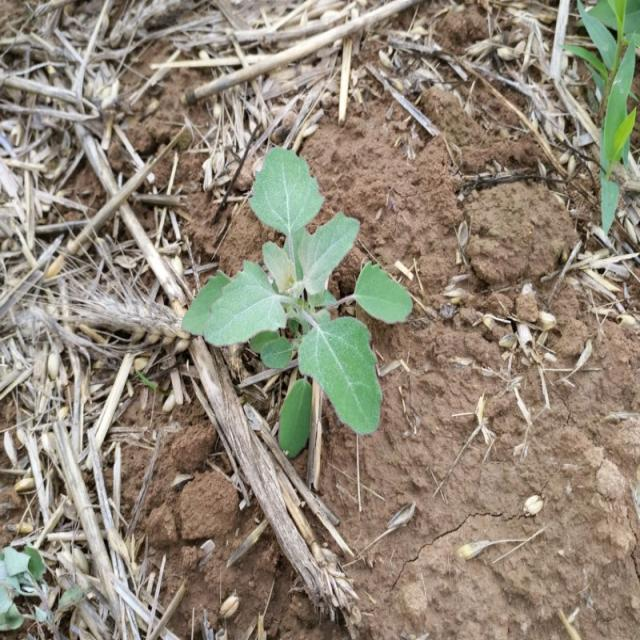goosefoots: (187, 143, 418, 458)
